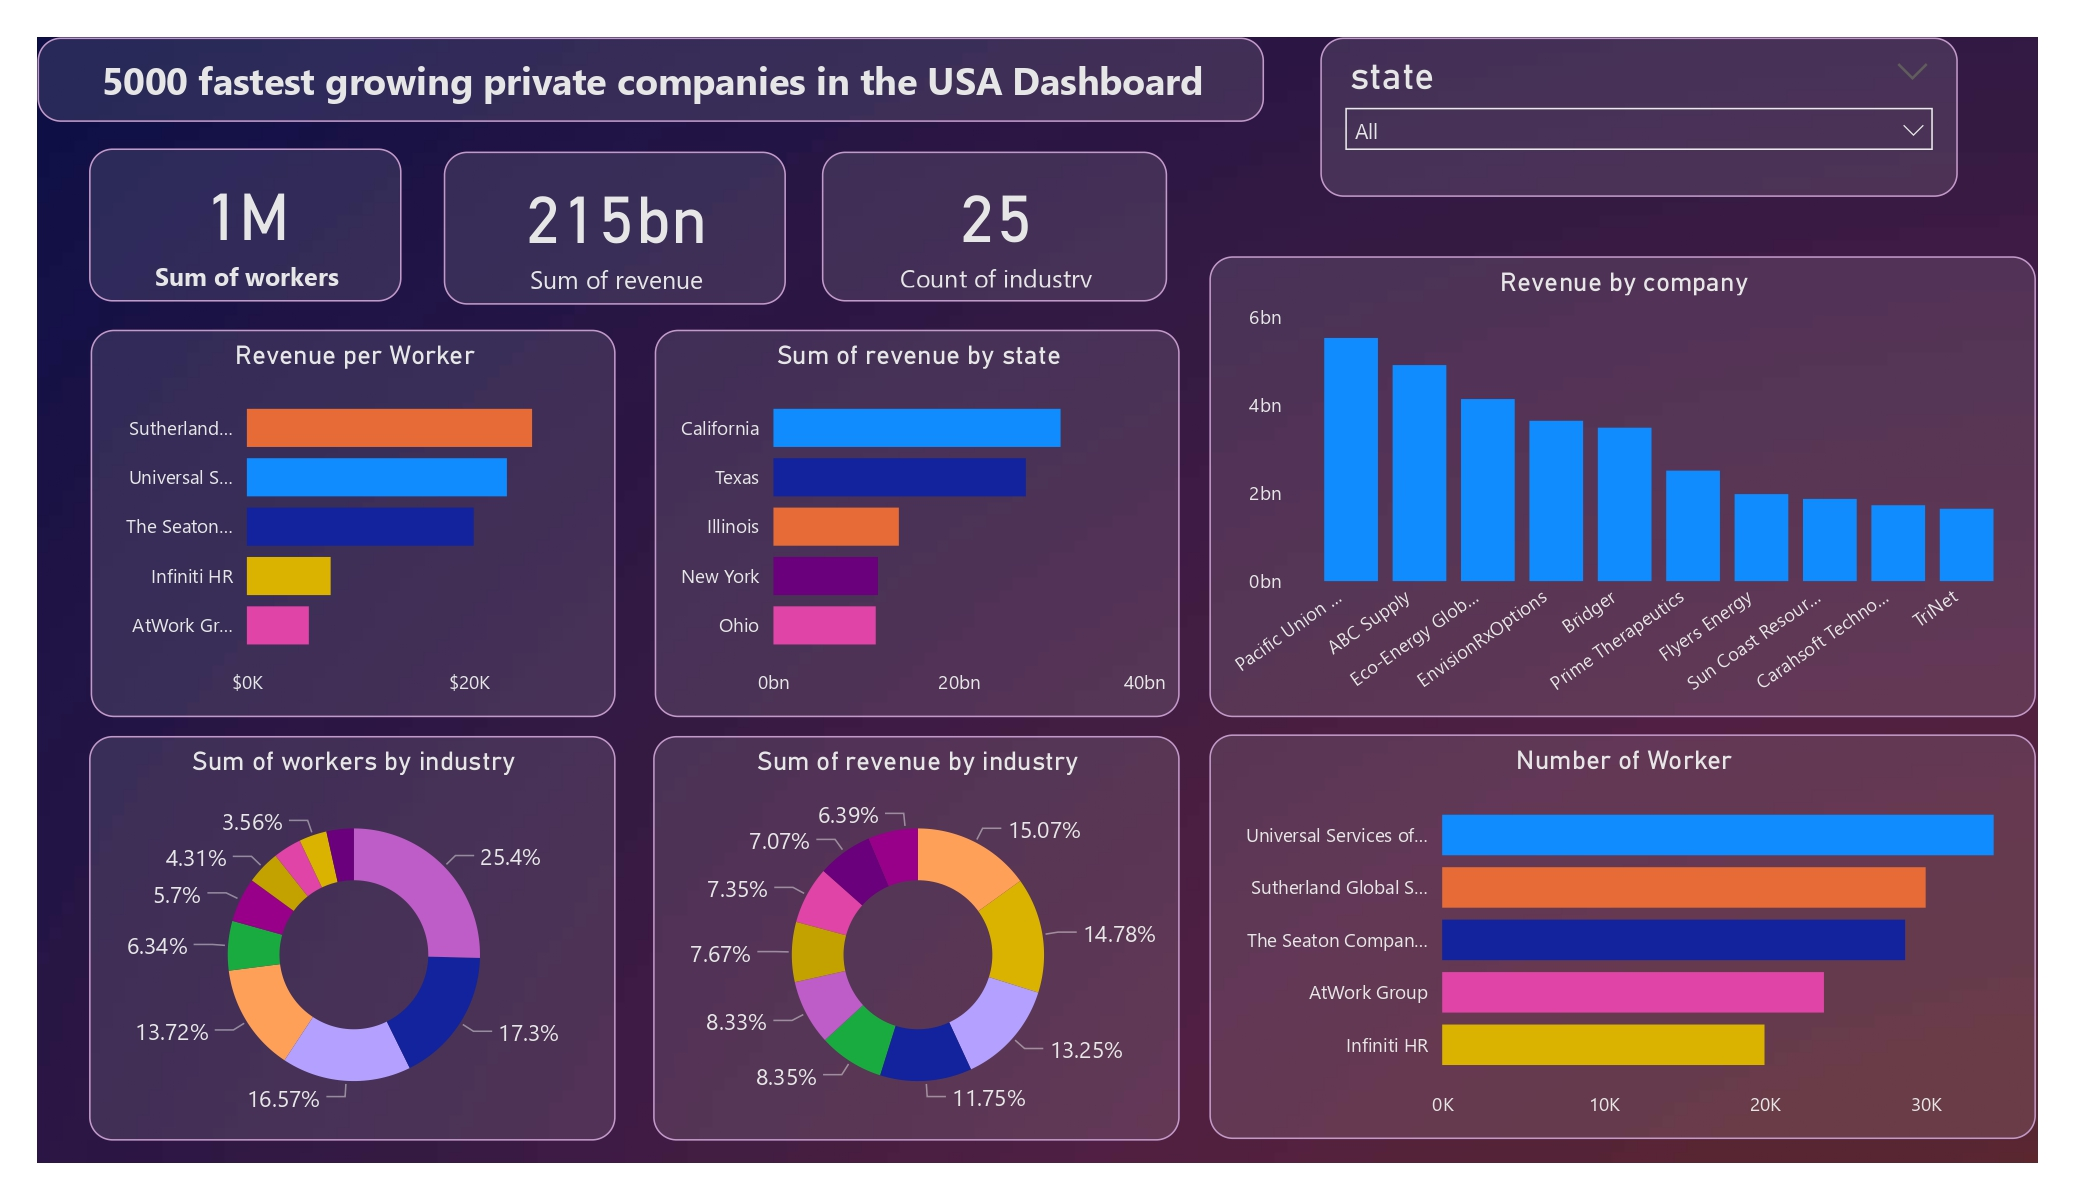

Layout of this report page (visuals, bound fields, positions):
{"tool":"powerbi","page":{"name":"Page 1","canvas":[1280,720],"ordinal":0},"visuals":[{"type":"textbox","box":[0,0,785.4,54.2],"z":0},{"type":"columnChart","title":"Revenue by company","fields":{"Category":["Data Set- Inc5000 Company List_2014.company"],"Y":["Sum(Data Set- Inc5000 Company List_2014.revenue)"]},"box":[750.2,139.8,529.1,294.8],"z":1000},{"type":"clusteredBarChart","title":"Number of Worker","fields":{"Category":["Data Set- Inc5000 Company List_2014.company"],"Y":["Sum(Data Set- Inc5000 Company List_2014.workers)"]},"box":[750.2,446,529.1,258.9],"z":2000},{"type":"donutChart","fields":{"Category":["Data Set- Inc5000 Company List_2014.industry"],"Y":["Sum(Data Set- Inc5000 Company List_2014.revenue)"]},"box":[394.2,446.6,337,259.1],"z":3000},{"type":"donutChart","fields":{"Category":["Data Set- Inc5000 Company List_2014.industry"],"Y":["Sum(Data Set- Inc5000 Company List_2014.workers)"]},"box":[33.4,446.6,337,259.1],"z":4000},{"type":"card","fields":{"Values":["Sum(Data Set- Inc5000 Company List_2014.workers)"]},"box":[33.3,70.8,200,97.9],"z":5000},{"type":"card","fields":{"Values":["Sum(Data Set- Inc5000 Company List_2014.revenue)"]},"box":[260.4,72.9,218.8,97.9],"z":6000},{"type":"card","fields":{"Values":["Count(Data Set- Inc5000 Company List_2014.industry)"]},"box":[502.1,72.9,220.8,95.8],"z":7000},{"type":"clusteredBarChart","title":"Revenue per Worker","fields":{"Y":["Sum(Data Set- Inc5000 Company List_2014.Revenue per worker)"],"Category":["Data Set- Inc5000 Company List_2014.company"]},"box":[34,187.1,336.4,247.6],"z":8000},{"type":"clusteredBarChart","title":"Sum of revenue by state","fields":{"Category":["Data Set- Inc5000 Company List_2014.state_l"],"Y":["Sum(Data Set- Inc5000 Company List_2014.revenue)"]},"box":[395,187.1,336.4,247.6],"z":9000},{"type":"slicer","fields":{"Values":["Data Set- Inc5000 Company List_2014.state_l"]},"box":[820.8,0,408.3,102.1],"z":9001}]}

Visuals, with their boxes in screenshot pixels (x1, y1, x2, y2):
textbox: pyautogui.locateOnScreen(38, 38, 1265, 122)
"Revenue by company" columnChart: pyautogui.locateOnScreen(1210, 256, 2036, 717)
"Number of Worker" clusteredBarChart: pyautogui.locateOnScreen(1210, 734, 2036, 1139)
donutChart - Data Set- Inc5000 Company List_2014.industry x Sum(Data Set- Inc5000 Company List_2014.revenue): pyautogui.locateOnScreen(653, 735, 1180, 1140)
donutChart - Data Set- Inc5000 Company List_2014.industry x Sum(Data Set- Inc5000 Company List_2014.workers): pyautogui.locateOnScreen(90, 735, 616, 1140)
card - Sum(Data Set- Inc5000 Company List_2014.workers): pyautogui.locateOnScreen(90, 148, 402, 301)
card - Sum(Data Set- Inc5000 Company List_2014.revenue): pyautogui.locateOnScreen(444, 151, 786, 304)
card - Count(Data Set- Inc5000 Company List_2014.industry): pyautogui.locateOnScreen(822, 151, 1167, 301)
"Revenue per Worker" clusteredBarChart: pyautogui.locateOnScreen(91, 330, 616, 717)
"Sum of revenue by state" clusteredBarChart: pyautogui.locateOnScreen(655, 330, 1180, 717)
slicer - Data Set- Inc5000 Company List_2014.state_l: pyautogui.locateOnScreen(1320, 38, 1958, 197)
